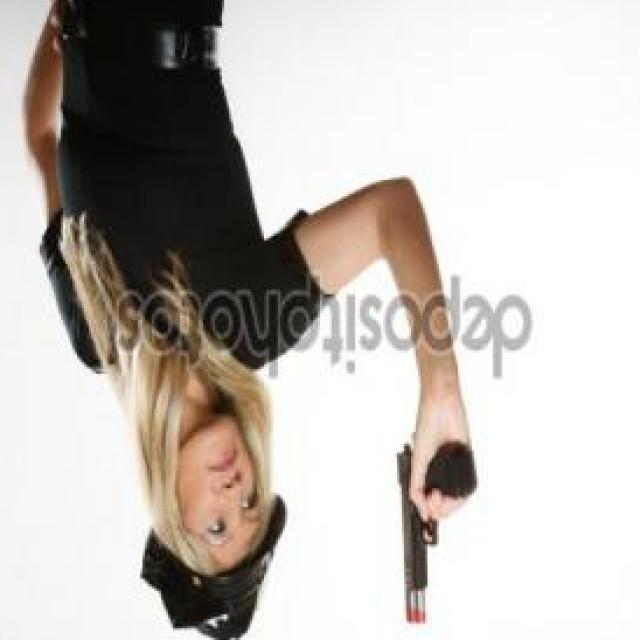pistol: (392, 432, 490, 638)
